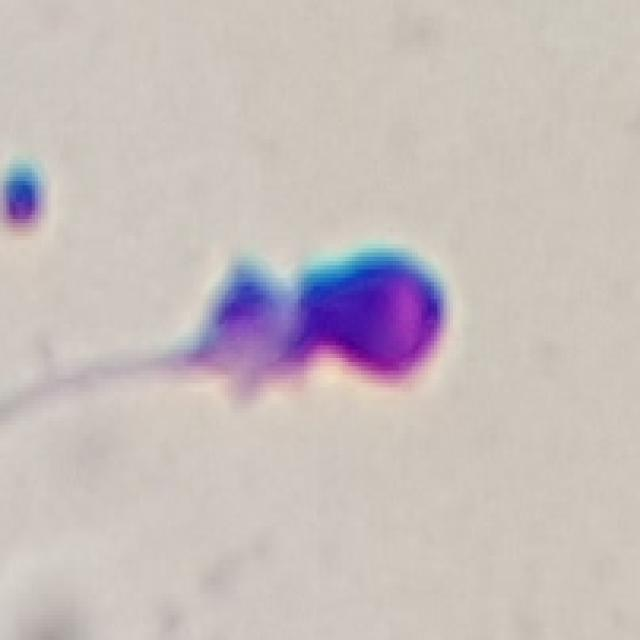abnormal sperm: (8, 239, 450, 431)
